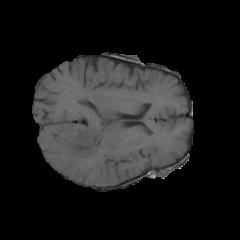glioma: (53, 122, 114, 161)
